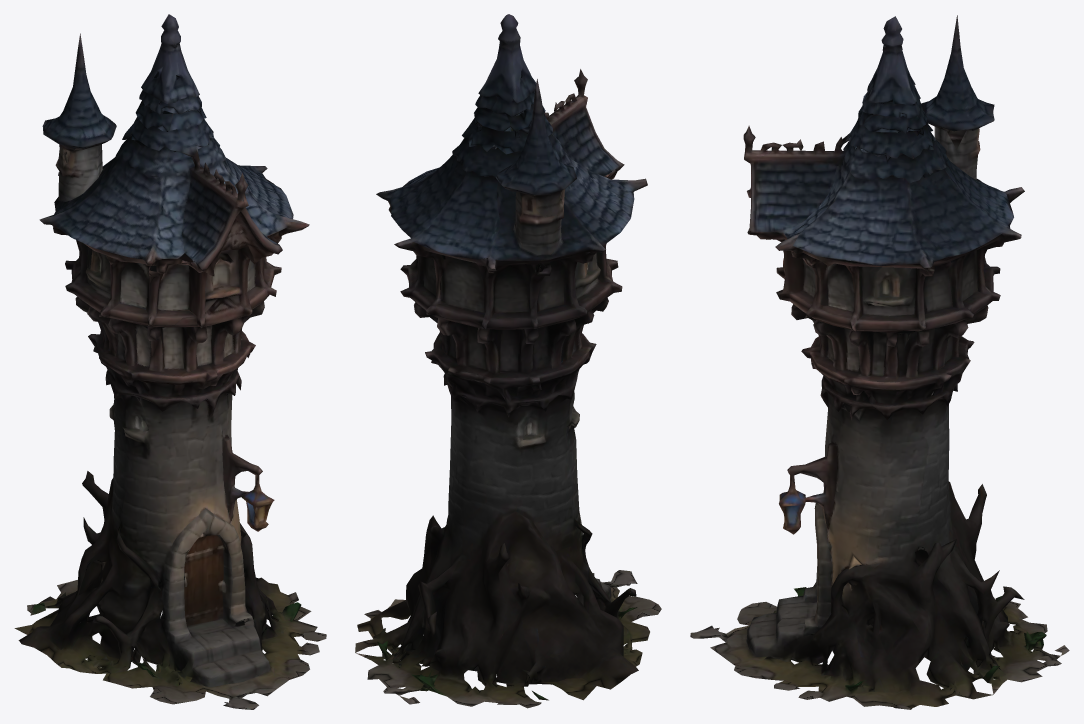
File: mage.glb
The picture shows the model from 3 angles, left to right: view 1: azimuth 30°, elevation 25°; view 2: azimuth 150°, elevation 25°; view 3: azimuth 270°, elevation 25°; orthographic projection.
Parts seen in each view (by area): view 1: geometry_0; view 2: geometry_0; view 3: geometry_0.
Boxes of the visible parts, bbox=[...] form: geometry_0: bbox=[14, 14, 326, 709]; geometry_0: bbox=[355, 14, 661, 708]; geometry_0: bbox=[690, 15, 1069, 709].
Bounding box in the file's own units: 0.4068 × 0.8847 × 0.4828.
Materials: 1 (1 with a texture image).
